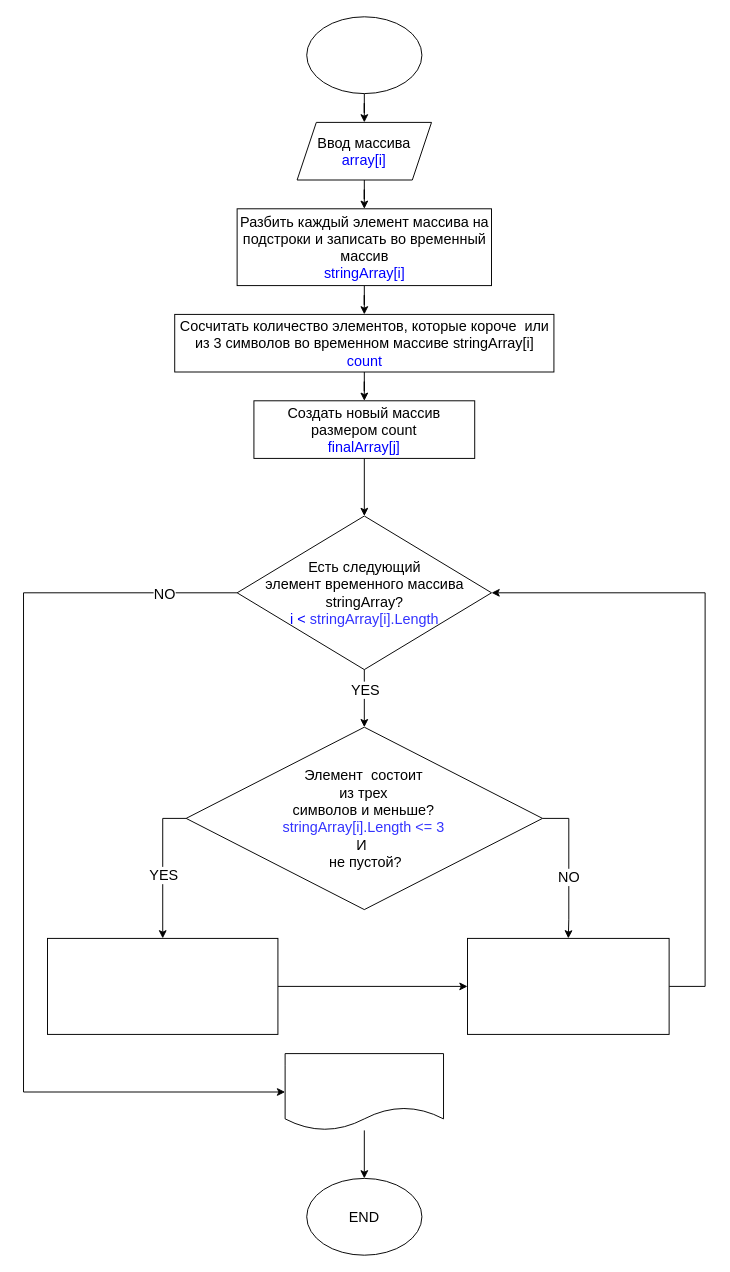
The diagram is 730 pixels wide and 1272 high, and some of its shapes have lost their labels. The shapes that lost their labels are listed below. From the top down, each one's box as (x1, y1, x2, y2) in pixels, then its label:
(306, 16, 422, 94): START
(47, 937, 278, 1034): Записать элемент в новый массив: finalArray[j] = stringArray[i]
(467, 937, 669, 1034): Перейти к следующему элементу: i ++
(284, 1053, 444, 1130): Вывести новый массив finalArray[j]
